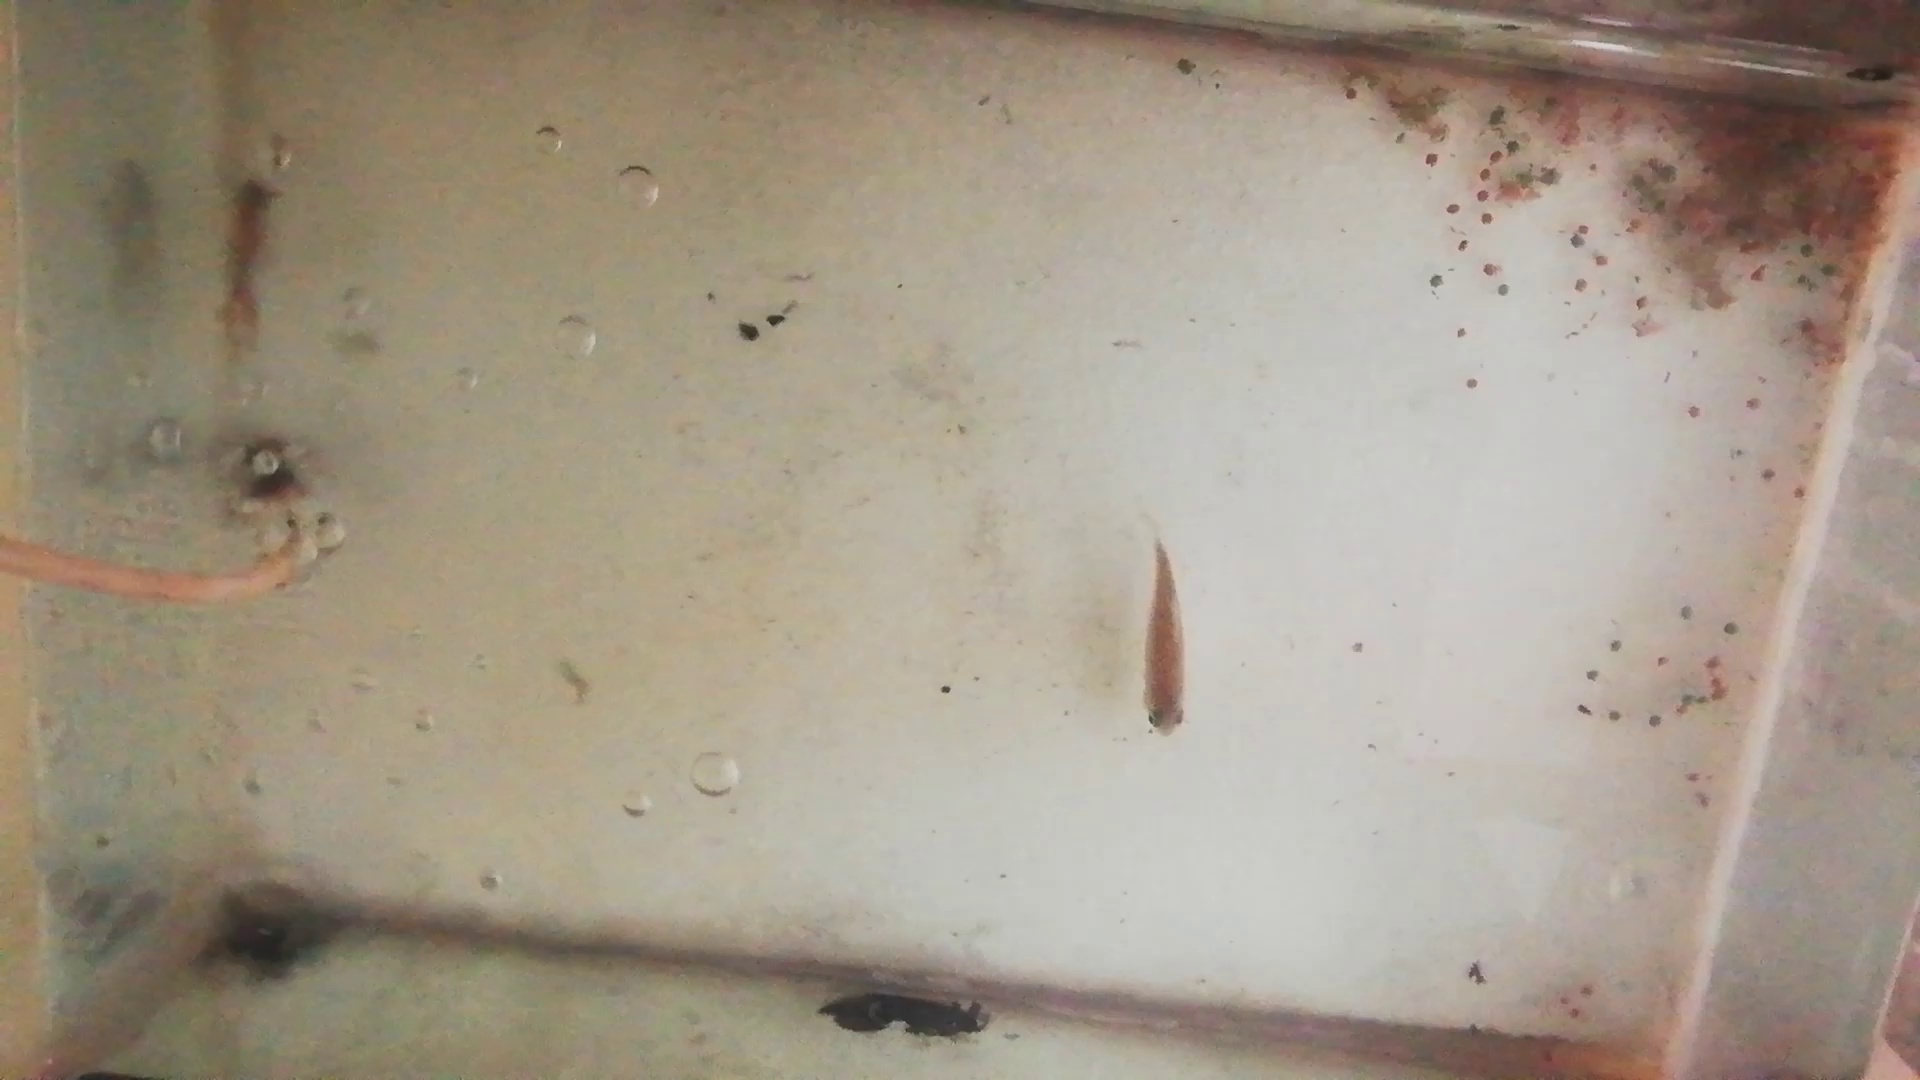fish: (212, 175, 284, 353), (1135, 545, 1193, 738)
